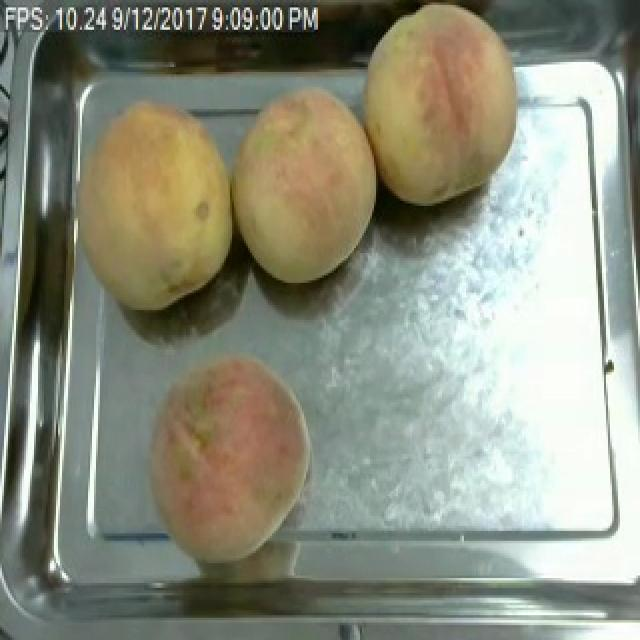Fruit: (56, 85, 240, 322), (140, 342, 320, 568), (356, 0, 532, 216), (230, 74, 388, 293)
